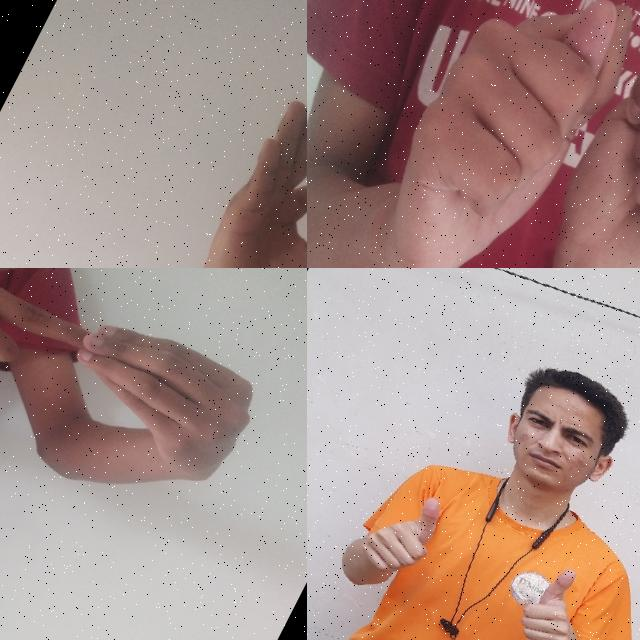Dulya: (338, 0, 640, 268), (505, 0, 640, 268)
Five Fathers: (0, 268, 289, 522)
Okay: (160, 76, 307, 268)
Thumbs Up: (345, 470, 463, 597), (496, 549, 607, 640)
